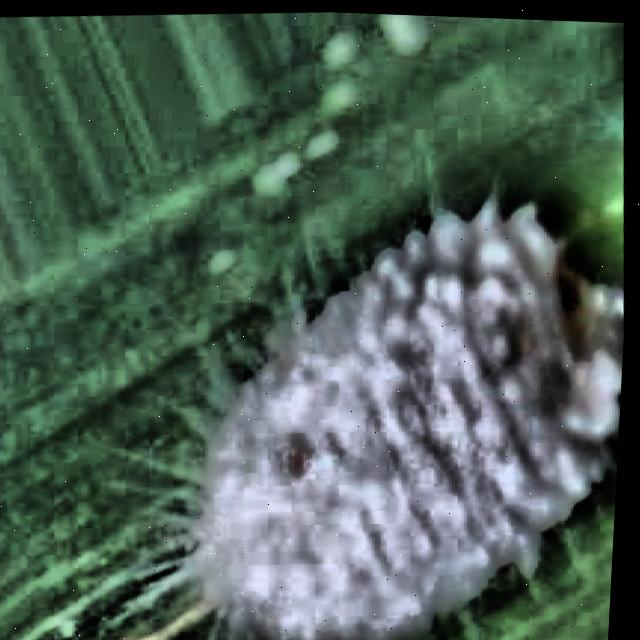Mealy-bug: (123, 97, 636, 640)
